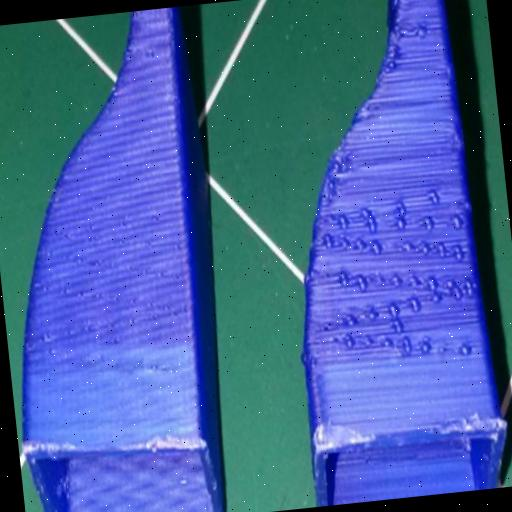blobs: (418, 330, 435, 358), (401, 330, 417, 358), (405, 289, 421, 314), (352, 272, 368, 296), (450, 239, 464, 266), (337, 267, 352, 292), (352, 230, 368, 252), (450, 212, 467, 232), (452, 280, 465, 306), (336, 232, 352, 253), (418, 236, 432, 260), (390, 300, 404, 324), (428, 186, 444, 206), (356, 204, 372, 224), (360, 332, 376, 352), (390, 266, 404, 288), (437, 336, 450, 359), (426, 272, 440, 292), (464, 280, 478, 300), (395, 200, 410, 218), (322, 230, 337, 248), (401, 239, 416, 256), (366, 304, 380, 322), (443, 274, 456, 293), (424, 216, 436, 236), (380, 334, 394, 350), (344, 336, 358, 352), (460, 344, 472, 362), (338, 210, 349, 228), (370, 237, 382, 253), (394, 216, 406, 232), (368, 304, 378, 322), (393, 315, 404, 330), (436, 240, 446, 256)
